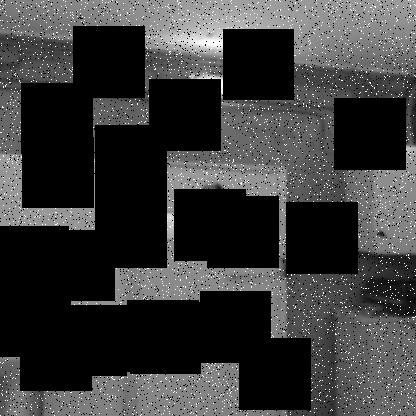Porte: (123, 160, 291, 415)
